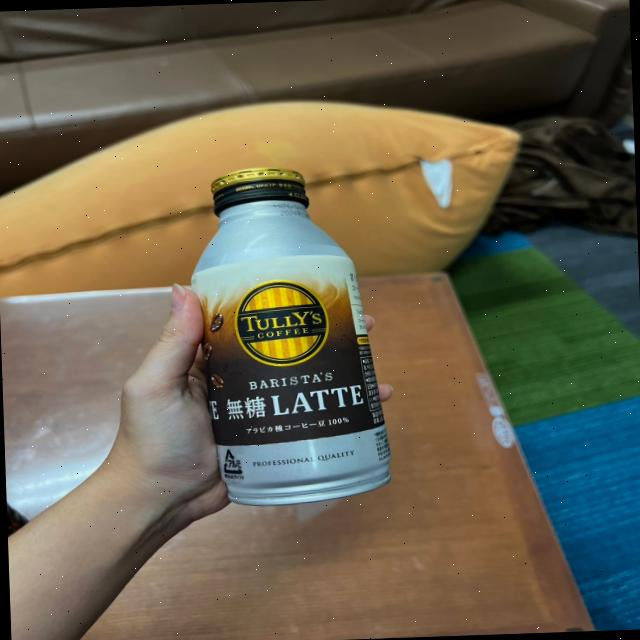coffee-latte: (190, 158, 398, 514)
